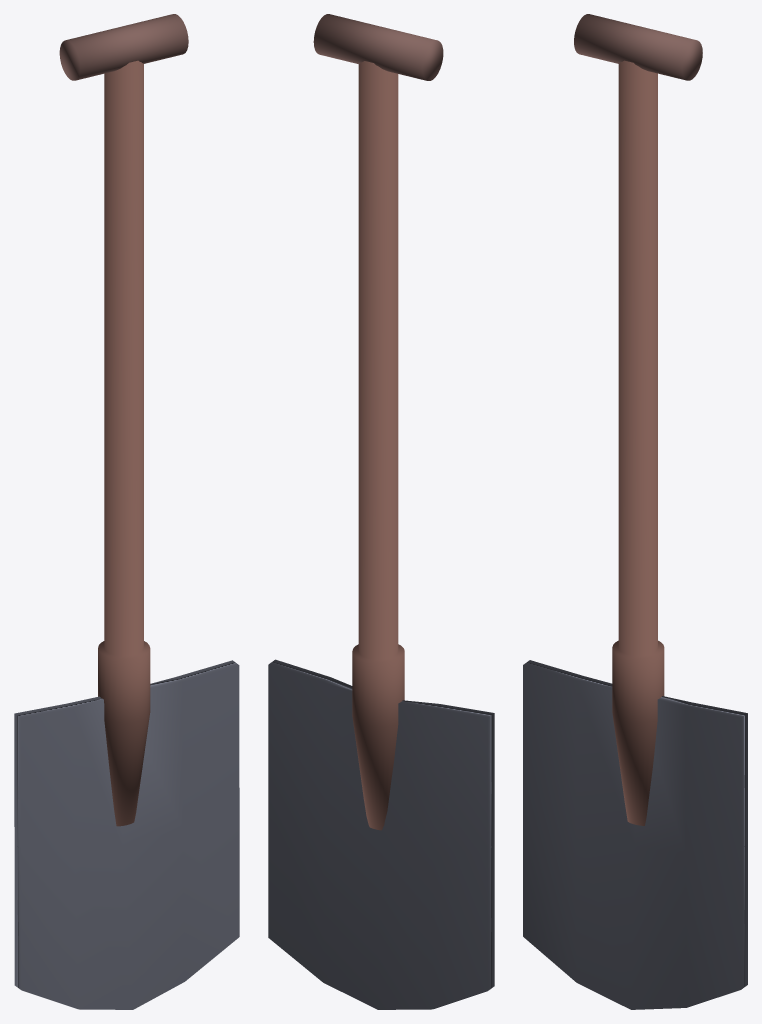
The model's file is shovel.glb.
3 renders of one model, left to right at view 1: azimuth 30°, elevation 25°; view 2: azimuth 150°, elevation 25°; view 3: azimuth 330°, elevation 25°, orthographic.
Parts seen in each view (by area): view 1: Cube, Cylinder, Cylinder.001; view 2: Cube, Cylinder, Cylinder.001; view 3: Cube, Cylinder, Cylinder.001.
Part boxes in pixels (bbox=[...]): Cube: bbox=[14, 660, 239, 1009]; Cylinder: bbox=[98, 60, 150, 826]; Cylinder.001: bbox=[59, 14, 188, 80]; Cube: bbox=[268, 659, 494, 1009]; Cylinder: bbox=[352, 61, 404, 830]; Cylinder.001: bbox=[313, 14, 443, 80]; Cube: bbox=[523, 660, 747, 1009]; Cylinder: bbox=[612, 60, 664, 825]; Cylinder.001: bbox=[574, 14, 702, 80].
Size of the model in its own units: 10.71 by 45.77 by 2.22.
